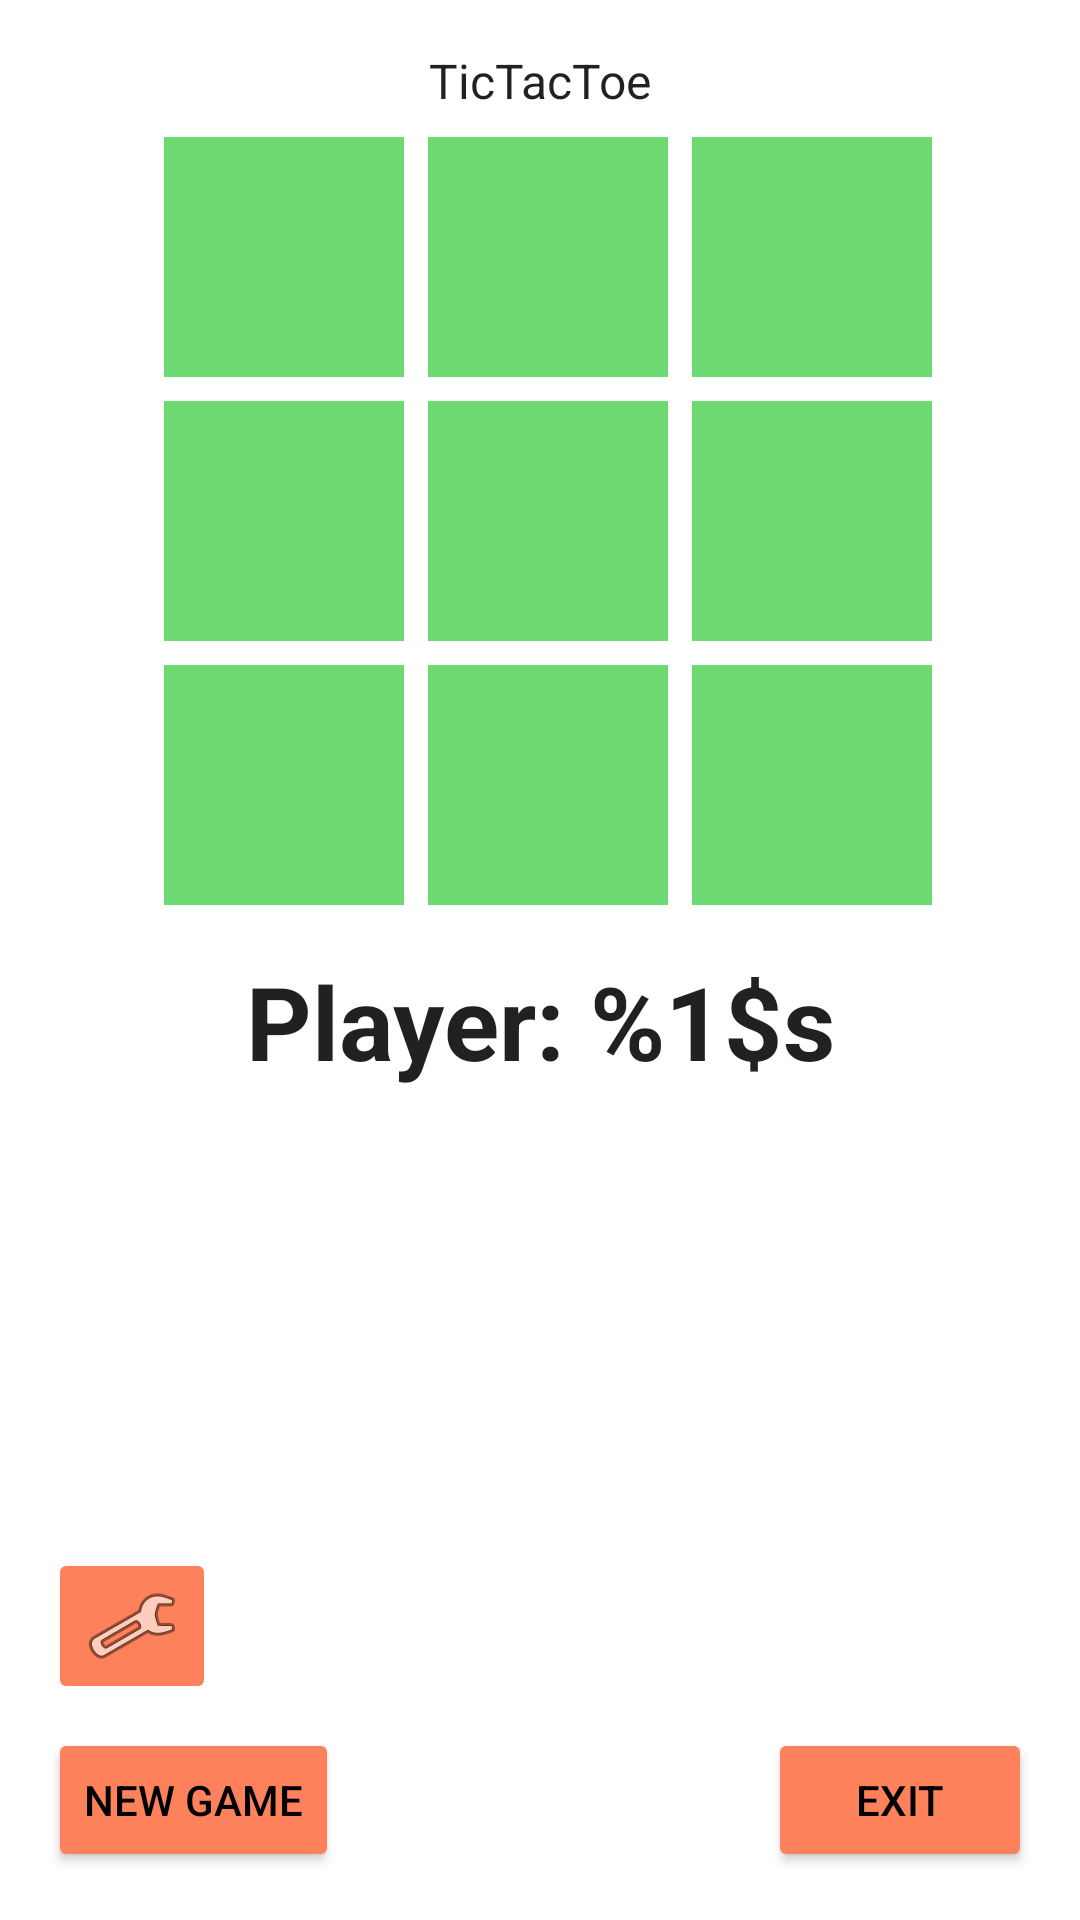

Icons on this 1080w x 1920h Android screen, each with the point to tap as [x,y]:
manage: [132,1626]
